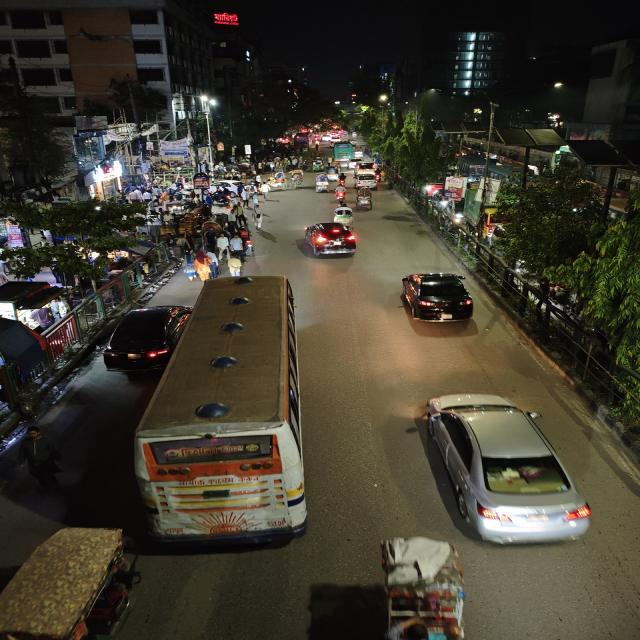bus: (125, 274, 309, 552), (333, 142, 353, 160)
car: (404, 386, 598, 553), (98, 301, 193, 375), (395, 269, 482, 331), (299, 220, 362, 261), (354, 160, 379, 173)
cng: (310, 160, 326, 172)
motorcycle: (354, 188, 376, 212), (332, 185, 349, 204), (240, 230, 253, 250), (336, 171, 348, 187)
pedestrian: (192, 252, 211, 282), (224, 253, 247, 277), (179, 248, 197, 276), (256, 181, 273, 203), (216, 233, 230, 259), (253, 210, 266, 230)
rickshaw: (0, 523, 146, 640), (354, 188, 376, 212), (332, 206, 357, 225), (286, 170, 305, 190), (313, 175, 330, 193), (272, 172, 286, 192)
